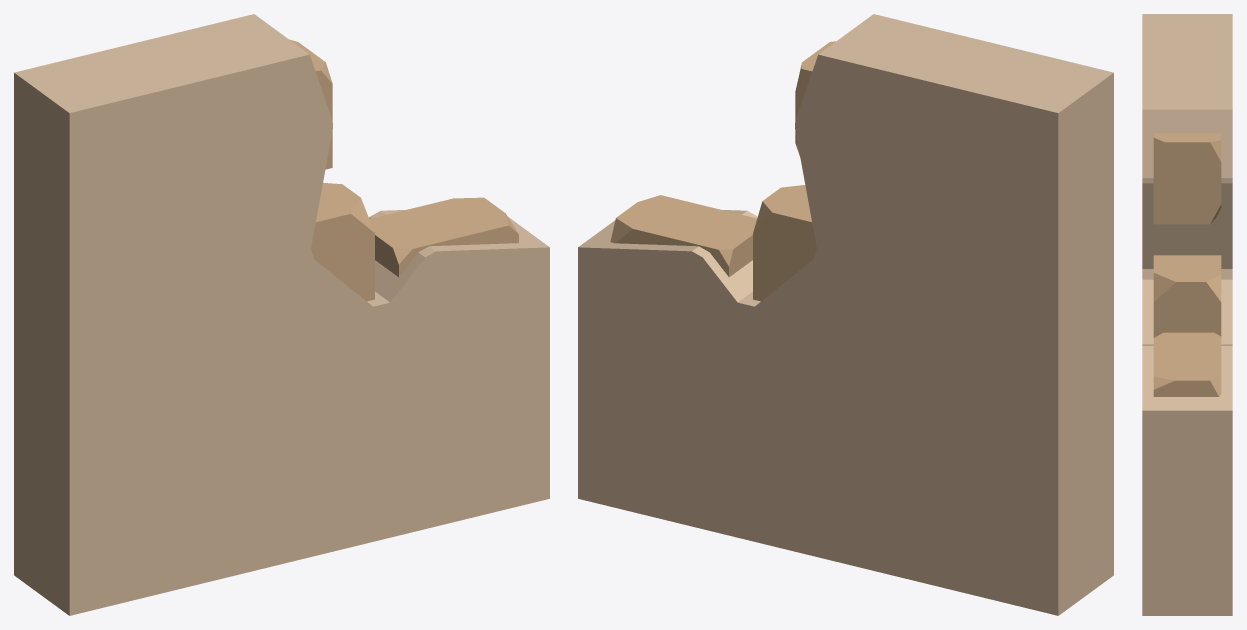
File: Wall_Ruined_Corner_Inner_1.fbx
3 renders of one model, left to right at view 1: azimuth 30°, elevation 25°; view 2: azimuth 150°, elevation 25°; view 3: azimuth 270°, elevation 25°, orthographic. The views are drawn at different scales.
Visible parts, largest first — view 1: object3, object4, object1, object2; view 2: object3, object4, object1, object2; view 3: object3, object2, object1, object4.
Boxes of the visible parts, bbox=[...] form: object3: bbox=[14, 14, 549, 615]; object4: bbox=[369, 197, 518, 277]; object1: bbox=[311, 183, 374, 301]; object2: bbox=[289, 39, 332, 169]; object3: bbox=[578, 14, 1113, 615]; object4: bbox=[610, 195, 756, 277]; object1: bbox=[753, 185, 816, 301]; object2: bbox=[795, 41, 835, 155]; object3: bbox=[1142, 14, 1232, 615]; object2: bbox=[1153, 133, 1221, 224]; object1: bbox=[1153, 255, 1221, 337]; object4: bbox=[1153, 332, 1221, 396].
Bounding box in the file's own units: 1 × 1 × 0.2.
